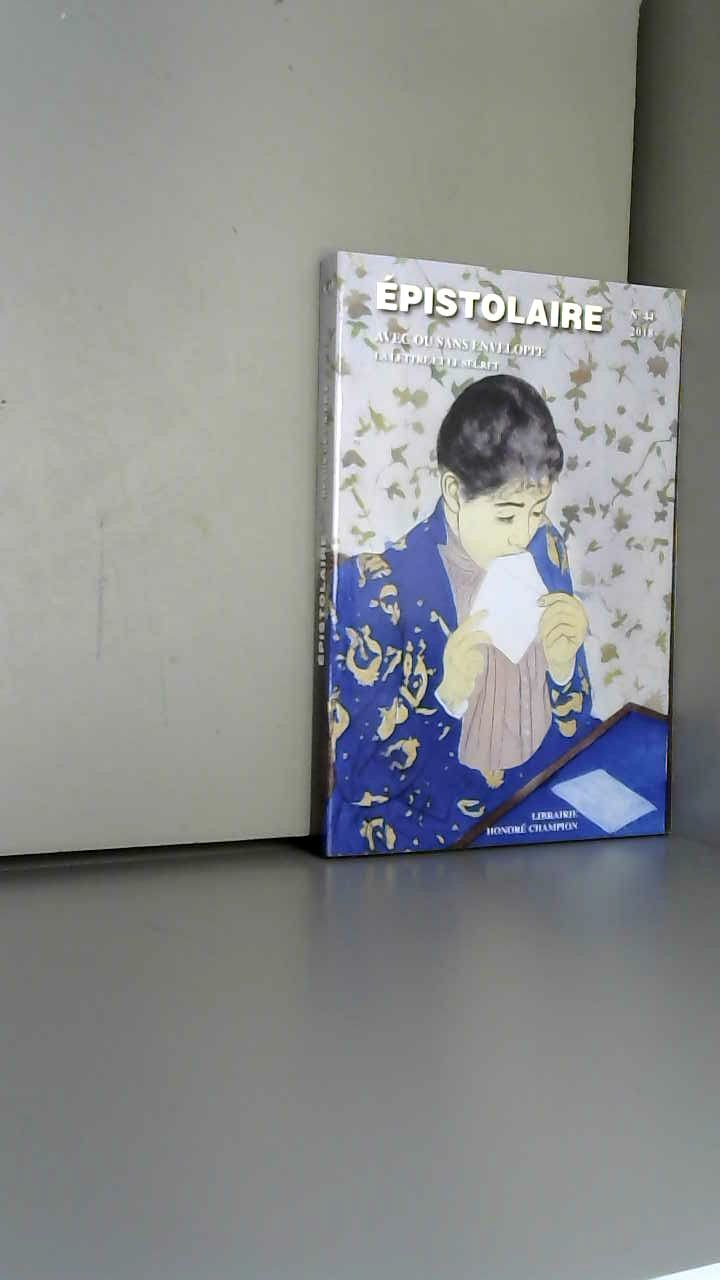book: (290, 220, 720, 880)
